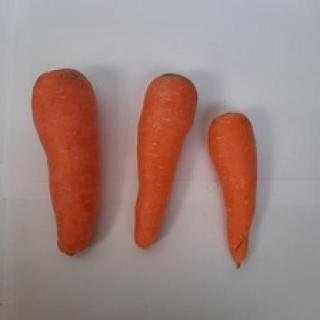carrot: (32, 68, 104, 256), (131, 73, 197, 248), (206, 111, 258, 263)
